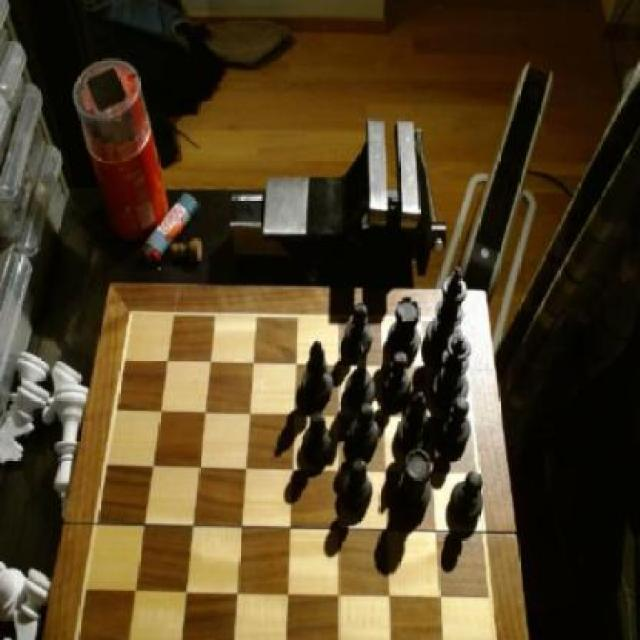bishop: (300, 338, 335, 411), (402, 391, 432, 453)
black-bishop: (426, 266, 467, 362)
black-king: (346, 343, 377, 411)
black-knight: (346, 403, 381, 459), (449, 471, 484, 525), (441, 396, 474, 452), (343, 303, 376, 356), (302, 412, 334, 464), (383, 352, 412, 406), (344, 462, 374, 512)
black-pawn: (430, 331, 472, 407)
black-queen: (399, 446, 436, 521), (391, 297, 423, 361)
